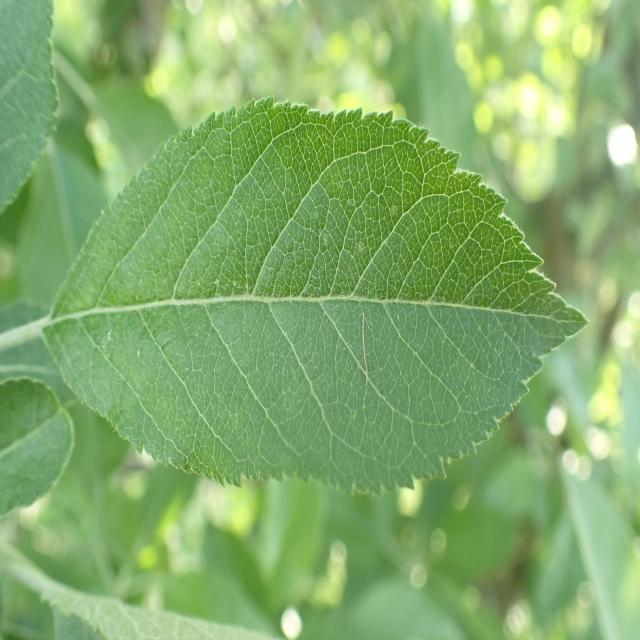healthy: (41, 97, 589, 496), (0, 0, 60, 215), (0, 375, 75, 519)
